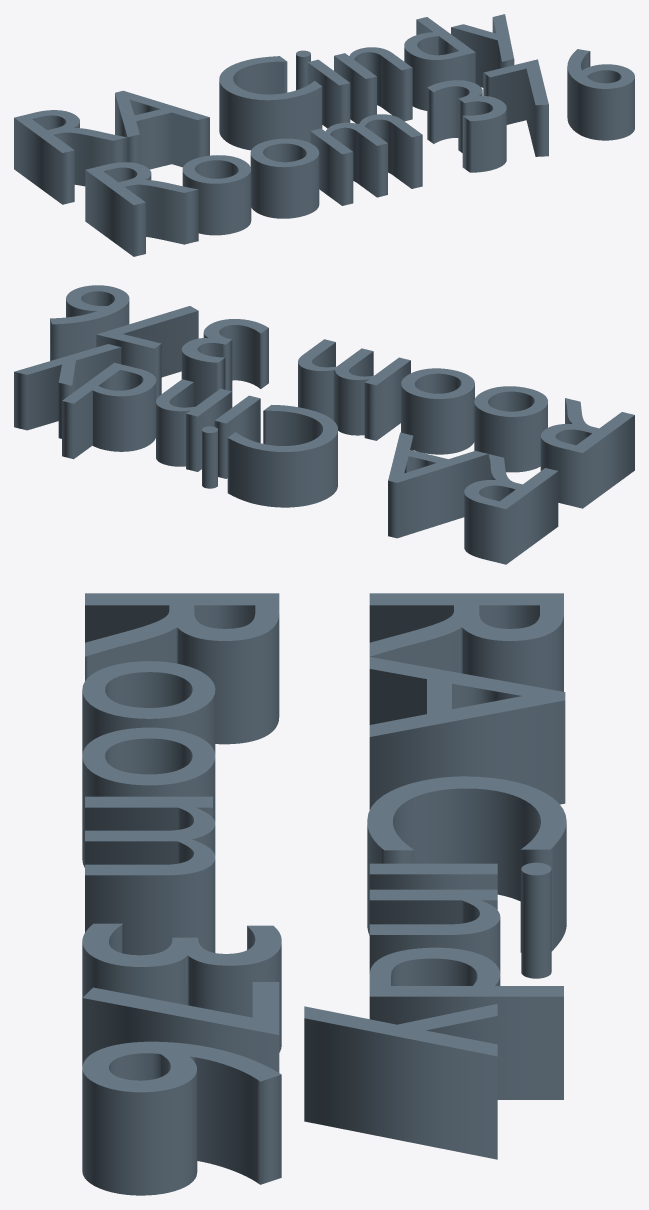
File: ra-cindy-376.gltf
The picture shows the model from 3 angles, top to bottom: view 1: azimuth 30°, elevation 25°; view 2: azimuth 150°, elevation 25°; view 3: azimuth 270°, elevation 25°; orthographic projection. The views are drawn at different scales.
Parts seen in each view (by area): view 1: Text; view 2: Text; view 3: Text.
Boxes of the visible parts, x1=… form: Text: x1=14, y1=14, x2=634, y2=256; Text: x1=14, y1=285, x2=634, y2=564; Text: x1=82, y1=593, x2=566, y2=1195.
Size of the model in its own units: 4.15 by 0.4 by 1.7.
